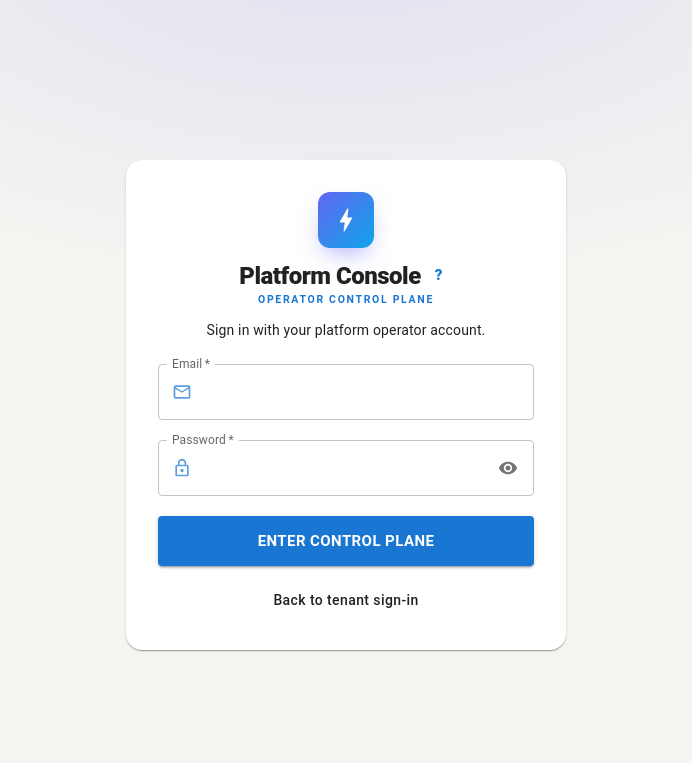
Test: PlatformLoginScreen MFA challenge › does not treat a password-accepted MFA challenge as a broken login
This screenshot has width=692, height=763.
Type "owner@nexora.local" into the field labelled "Email *" at x=367, y=392, box [200, 364, 534, 420]
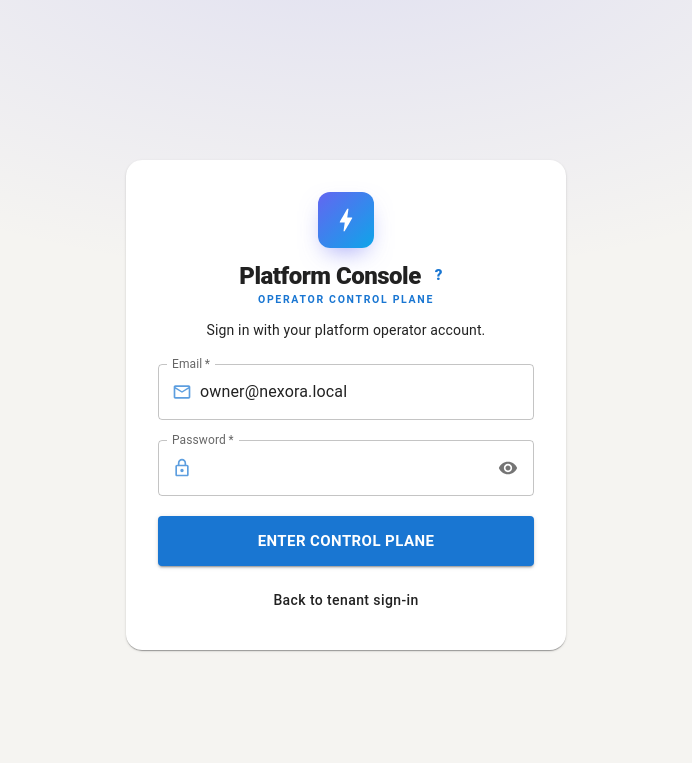
Type "secret" into the password field labelled "Password *" at x=342, y=468, box [200, 440, 485, 496]
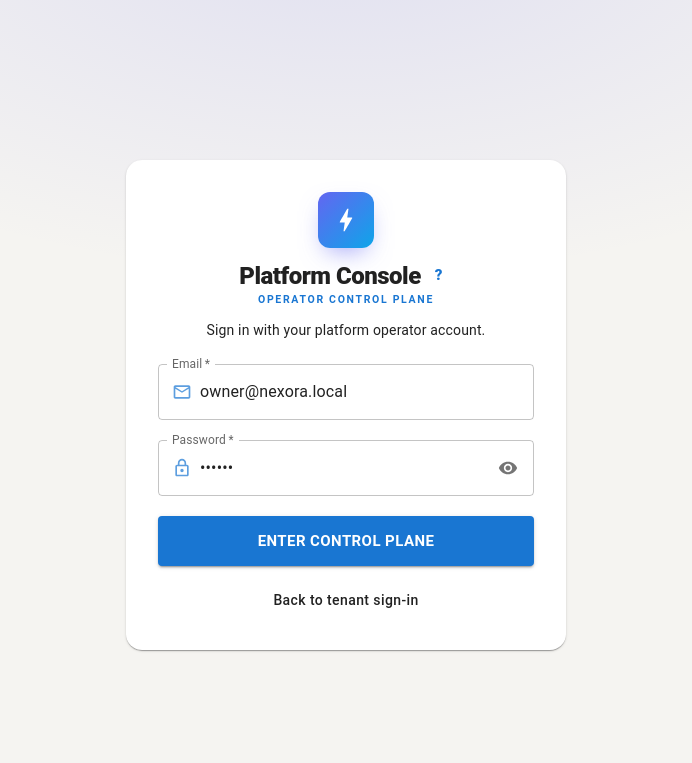
Click the button "Enter Control Plane" at x=346, y=541, box [158, 516, 534, 566]
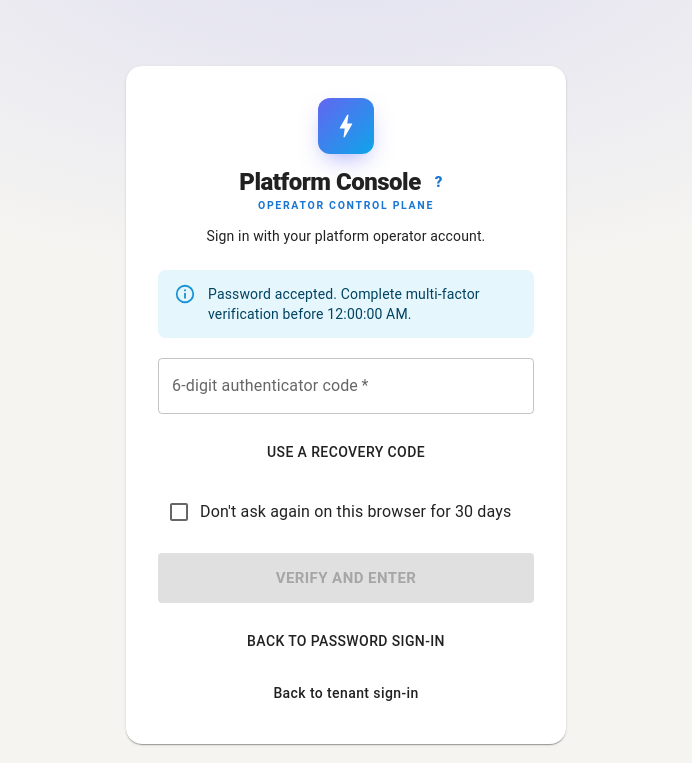
expect the field labelled "6-digit authenticator code *" is shown: met, box [158, 358, 534, 414]
expect the text "Password accepted" is shown: met, box [208, 286, 480, 322]
